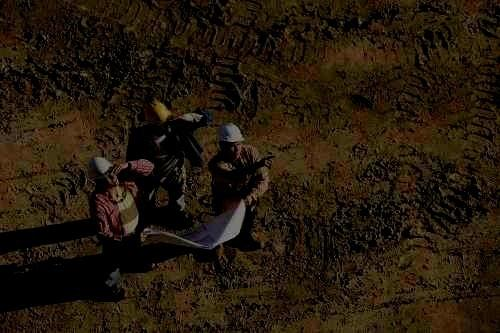helmet: (215, 122, 245, 162), (144, 98, 172, 135), (88, 156, 116, 188)
